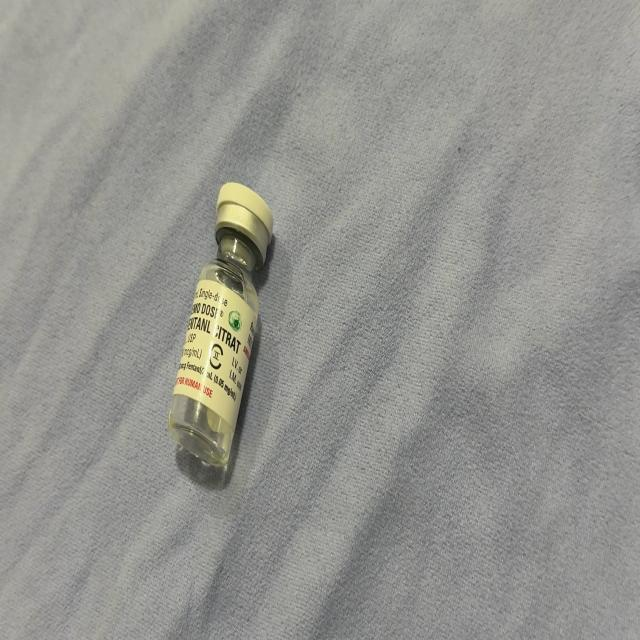fentanl_citrat: (168, 187, 272, 478)
